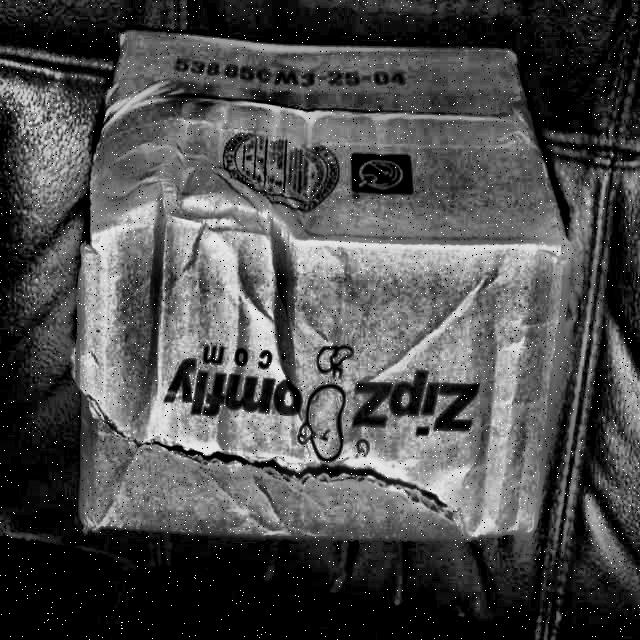box: (54, 0, 579, 552)
hole: (121, 437, 461, 525)
